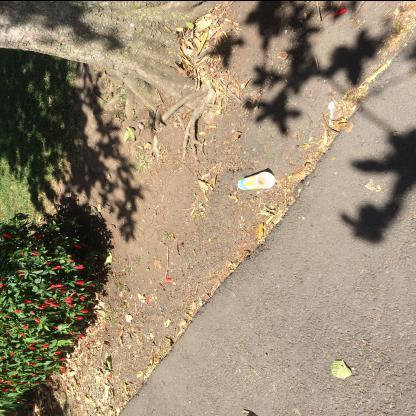karton: (238, 171, 275, 188)
plastik: (328, 100, 335, 124)
